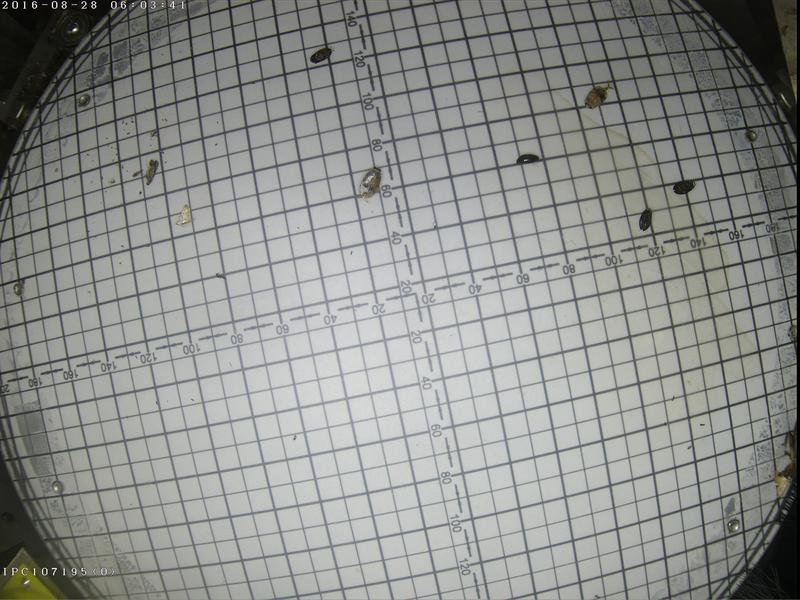Rice Leaf Roller: (171, 202, 193, 228)
